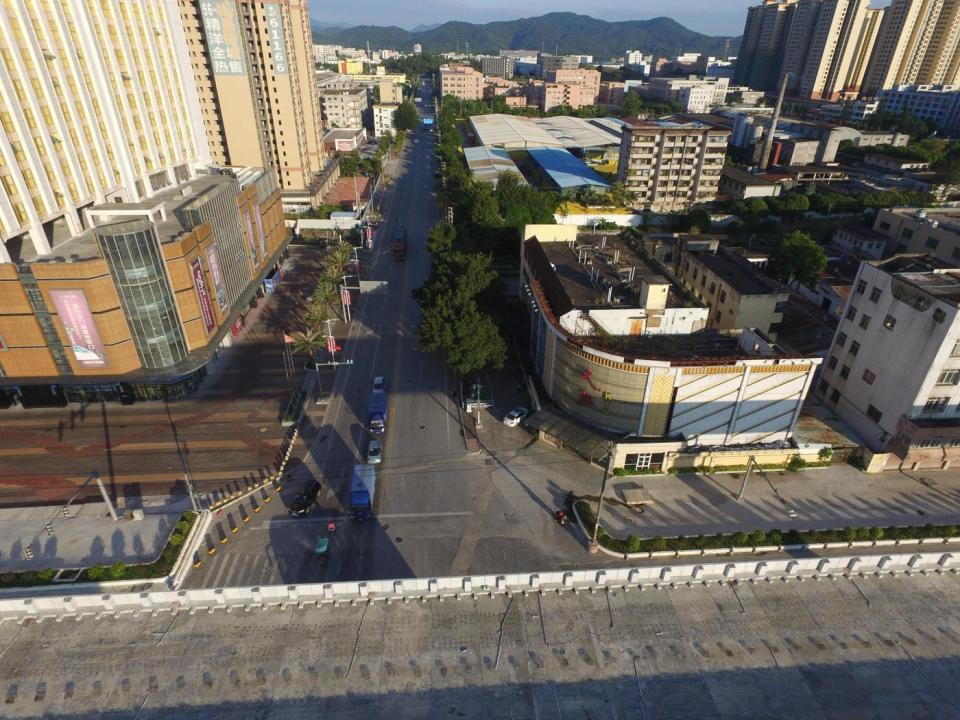car: (287, 479, 322, 517), (502, 406, 528, 428), (366, 438, 382, 464), (370, 375, 386, 396), (305, 294, 320, 302), (406, 147, 412, 153), (413, 139, 419, 144)
truck: (348, 463, 376, 522), (368, 391, 387, 434), (392, 224, 407, 261)
